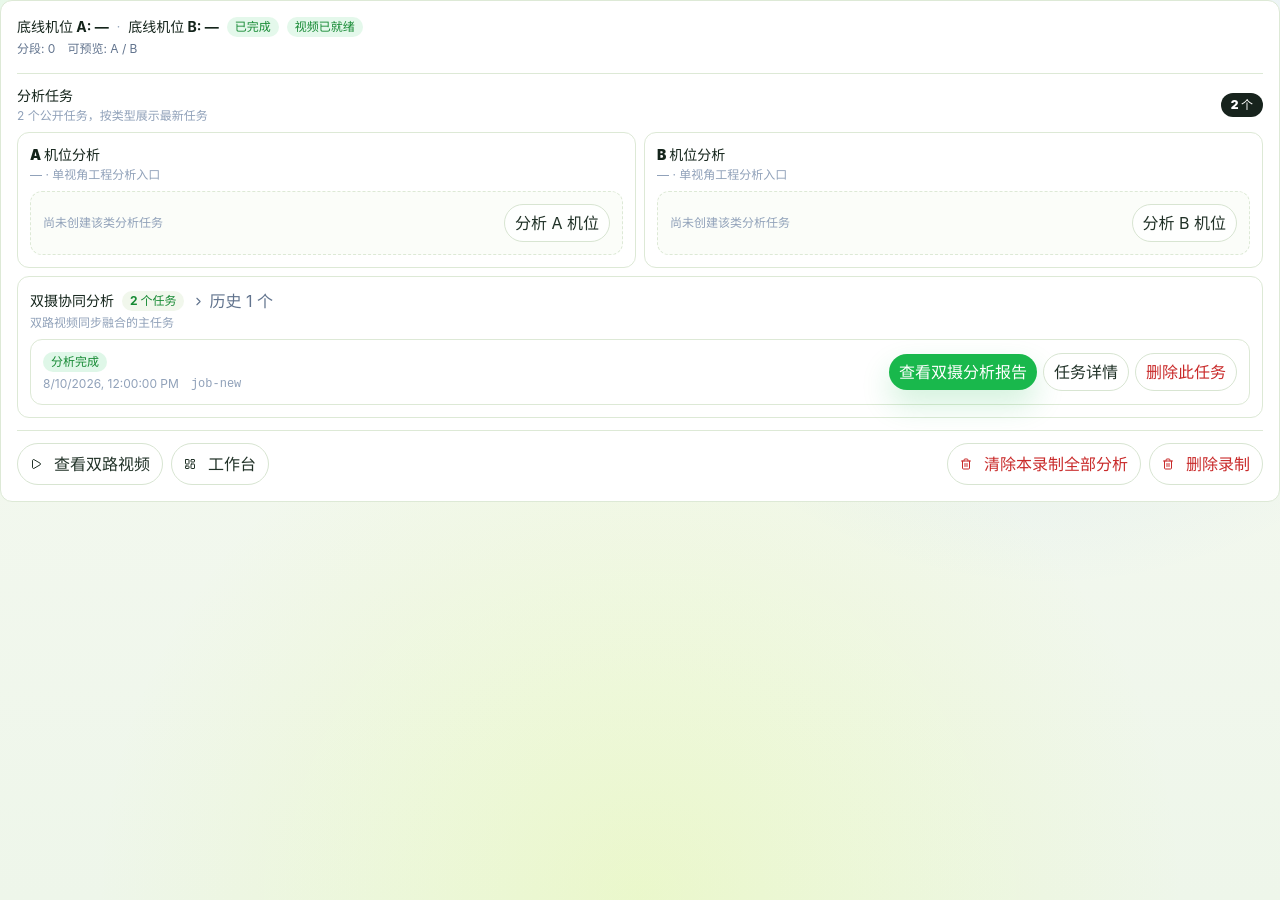
SyncRecordingTaskCard 双摄分析任务 › 同一 Parent 存在历史任务时默认显示最新任务并可展开历史
The image size is (1280, 900).
Expected: the text "job-new" is shown, [191,376,241,392]
Expected: the text "job-old" is not shown
Click the button "历史 1 个": click(233, 301) [192,289,273,313]
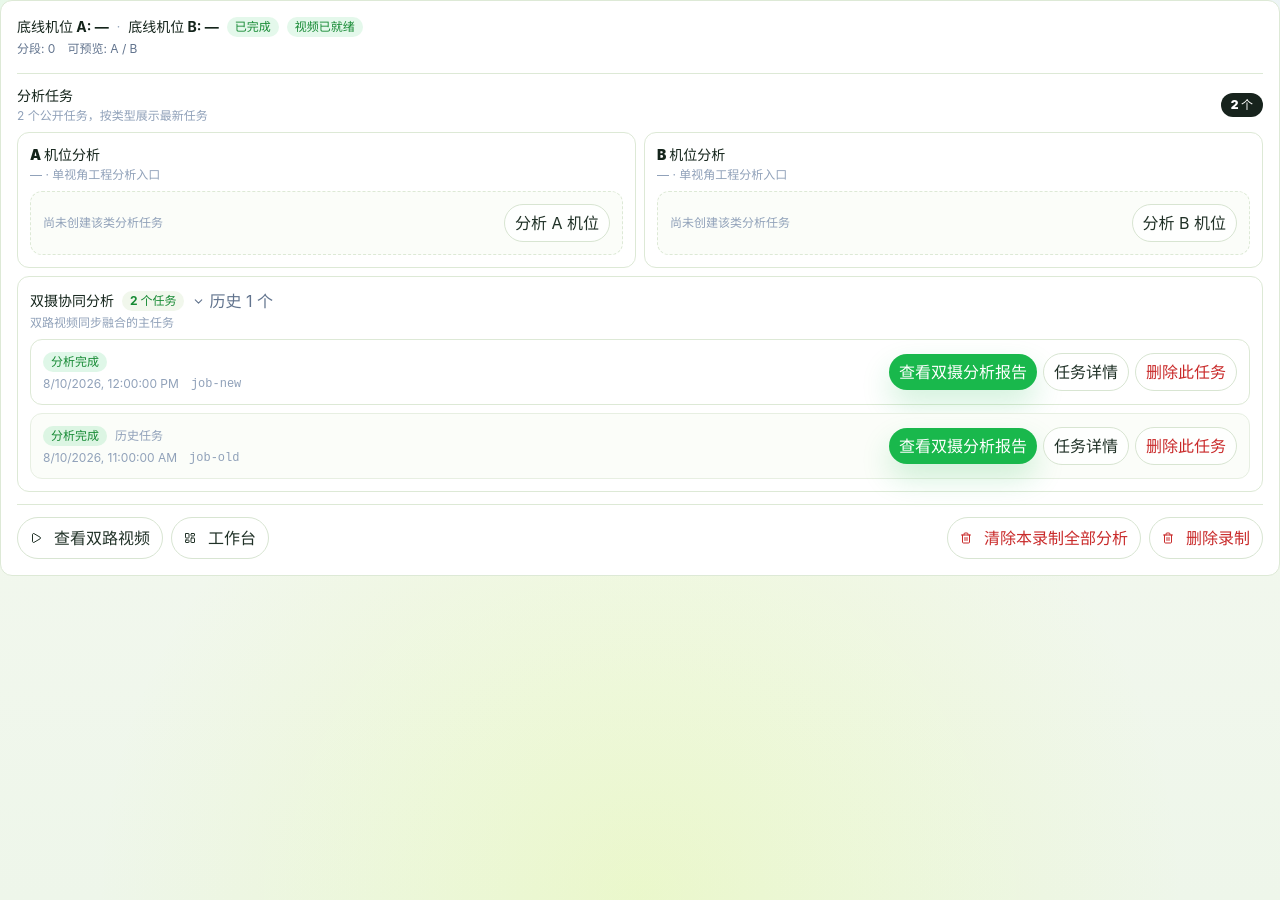
Expected: the text "job-old" is shown, [189,450,240,466]
